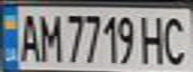1: (100, 11, 121, 64)
7: (81, 11, 103, 63), (63, 11, 84, 63)
9: (115, 11, 139, 65)
A: (15, 10, 42, 63)
C: (157, 11, 193, 66)
H: (136, 11, 172, 65)
M: (33, 9, 63, 63)
